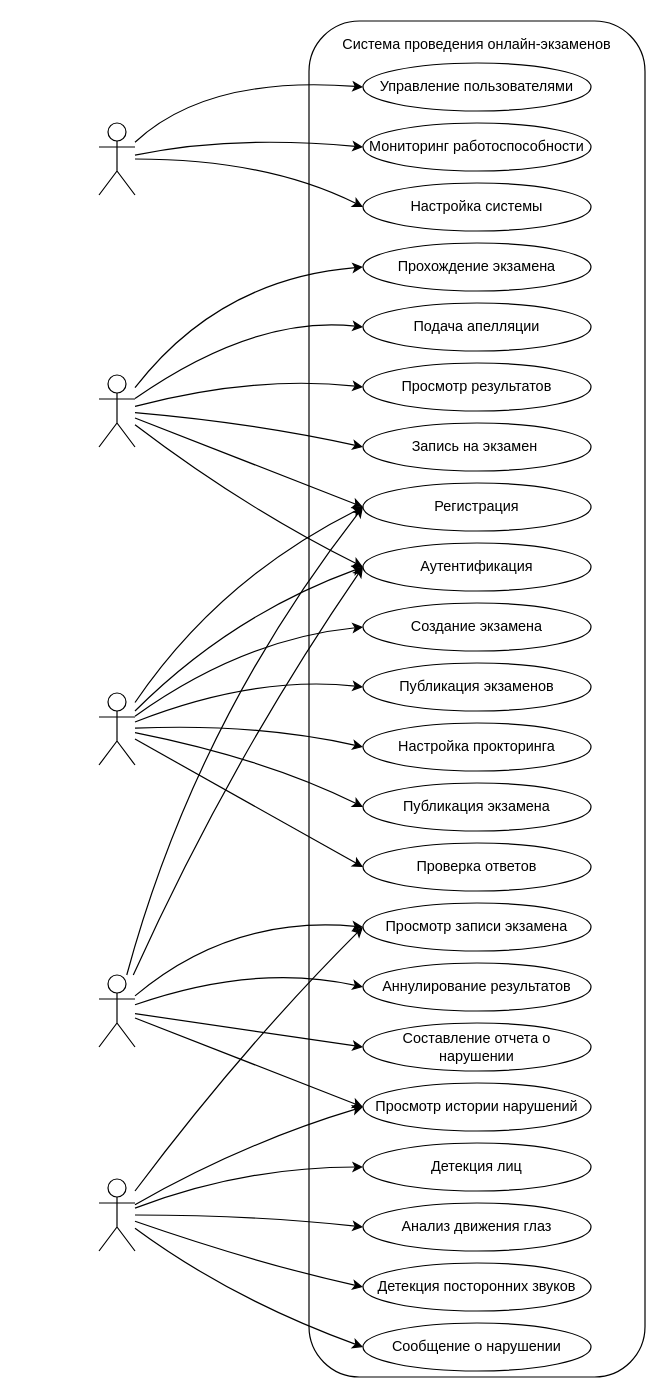
Some shapes in this 666 by 1398 pixel diagram are drawn without their labels. Each missing label, with the box of its shape:
Проктор: (98, 974, 135, 1047)
Система анализа поведения (ИИ): (98, 1178, 135, 1251)
Системный администратор: (98, 122, 135, 195)
Экзаменатор: (98, 692, 135, 765)
Экзаменуемый: (98, 374, 135, 447)
